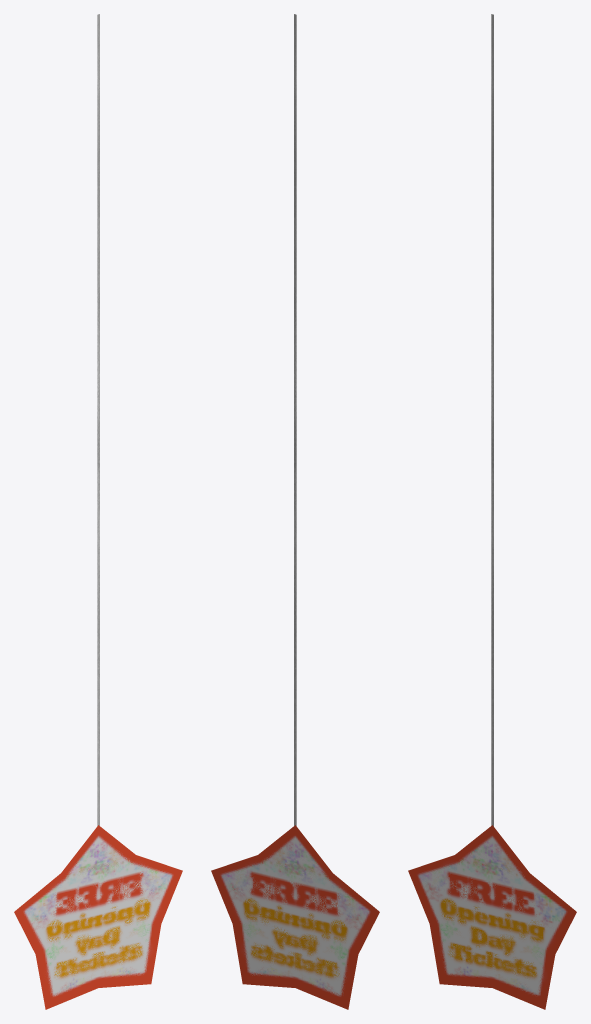
The model's file is SwingSign2.fbx.
The picture shows the model from 3 angles, left to right: view 1: azimuth 30°, elevation 25°; view 2: azimuth 150°, elevation 25°; view 3: azimuth 330°, elevation 25°; orthographic projection.
Parts seen in each view (by area): view 1: Plane.014; view 2: Plane.014; view 3: Plane.014.
Boxes of the visible parts, box(x1,y1,x2,y2) form: Plane.014: box(14, 14, 182, 1009); Plane.014: box(211, 14, 379, 1009); Plane.014: box(408, 14, 576, 1009).
Bounding box in the file's own units: 59.63 × 331 × 5.15e-05.
